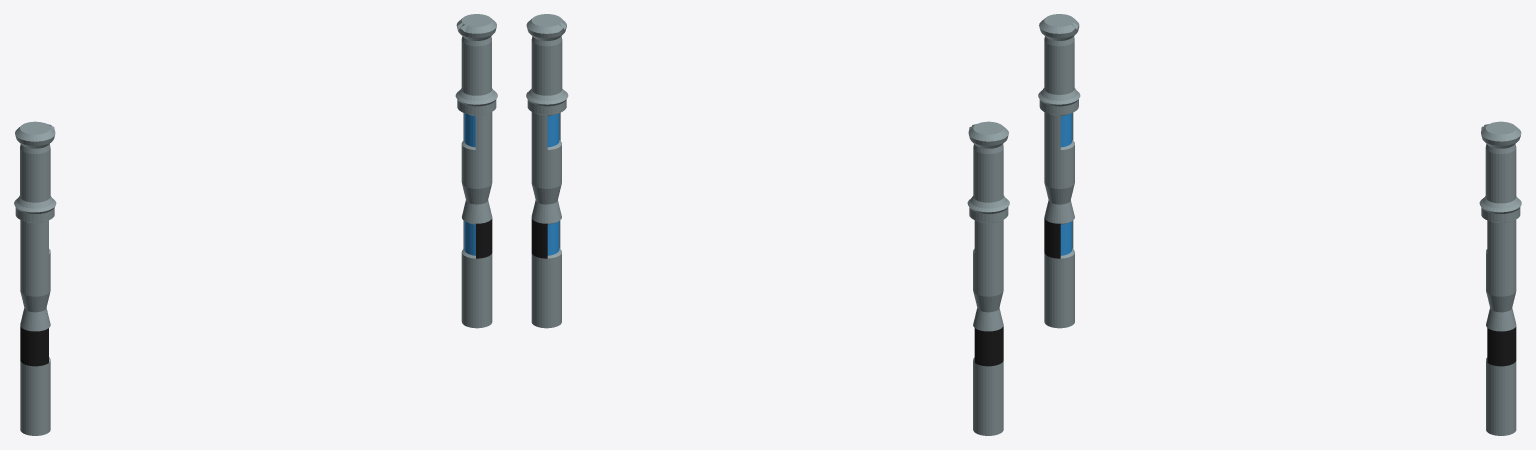
The model's file is postes.fbx.
3 views of the same model, side by side, from view 1: azimuth 30°, elevation 25°; view 2: azimuth 150°, elevation 25°; view 3: azimuth 330°, elevation 25° (orthographic).
Parts seen in each view (by area): view 1: Cylinder.001; view 2: Cylinder.001; view 3: Cylinder.001.
Part boxes in pixels (box(x1,y1,x2,y2)): Cylinder.001: box(14, 14, 497, 435); Cylinder.001: box(526, 14, 1009, 435); Cylinder.001: box(1038, 14, 1521, 435).
Size of the model in its own units: 1432 by 863 by 110.
